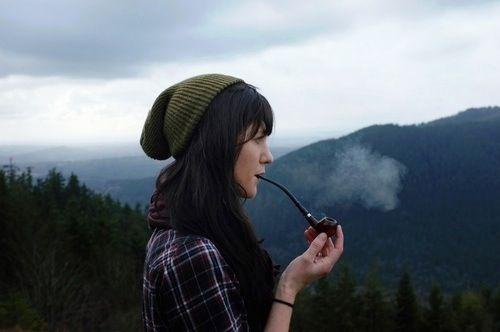trubka: (256, 175, 337, 237)
